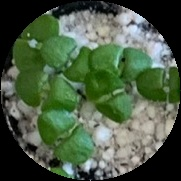Basil: (36, 110, 93, 164), (16, 68, 75, 113), (42, 36, 99, 82), (87, 71, 136, 121), (16, 16, 62, 69), (86, 44, 156, 75), (137, 65, 181, 104)
